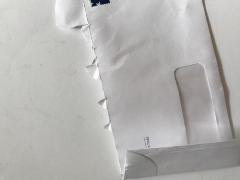paper: (22, 0, 240, 180)
